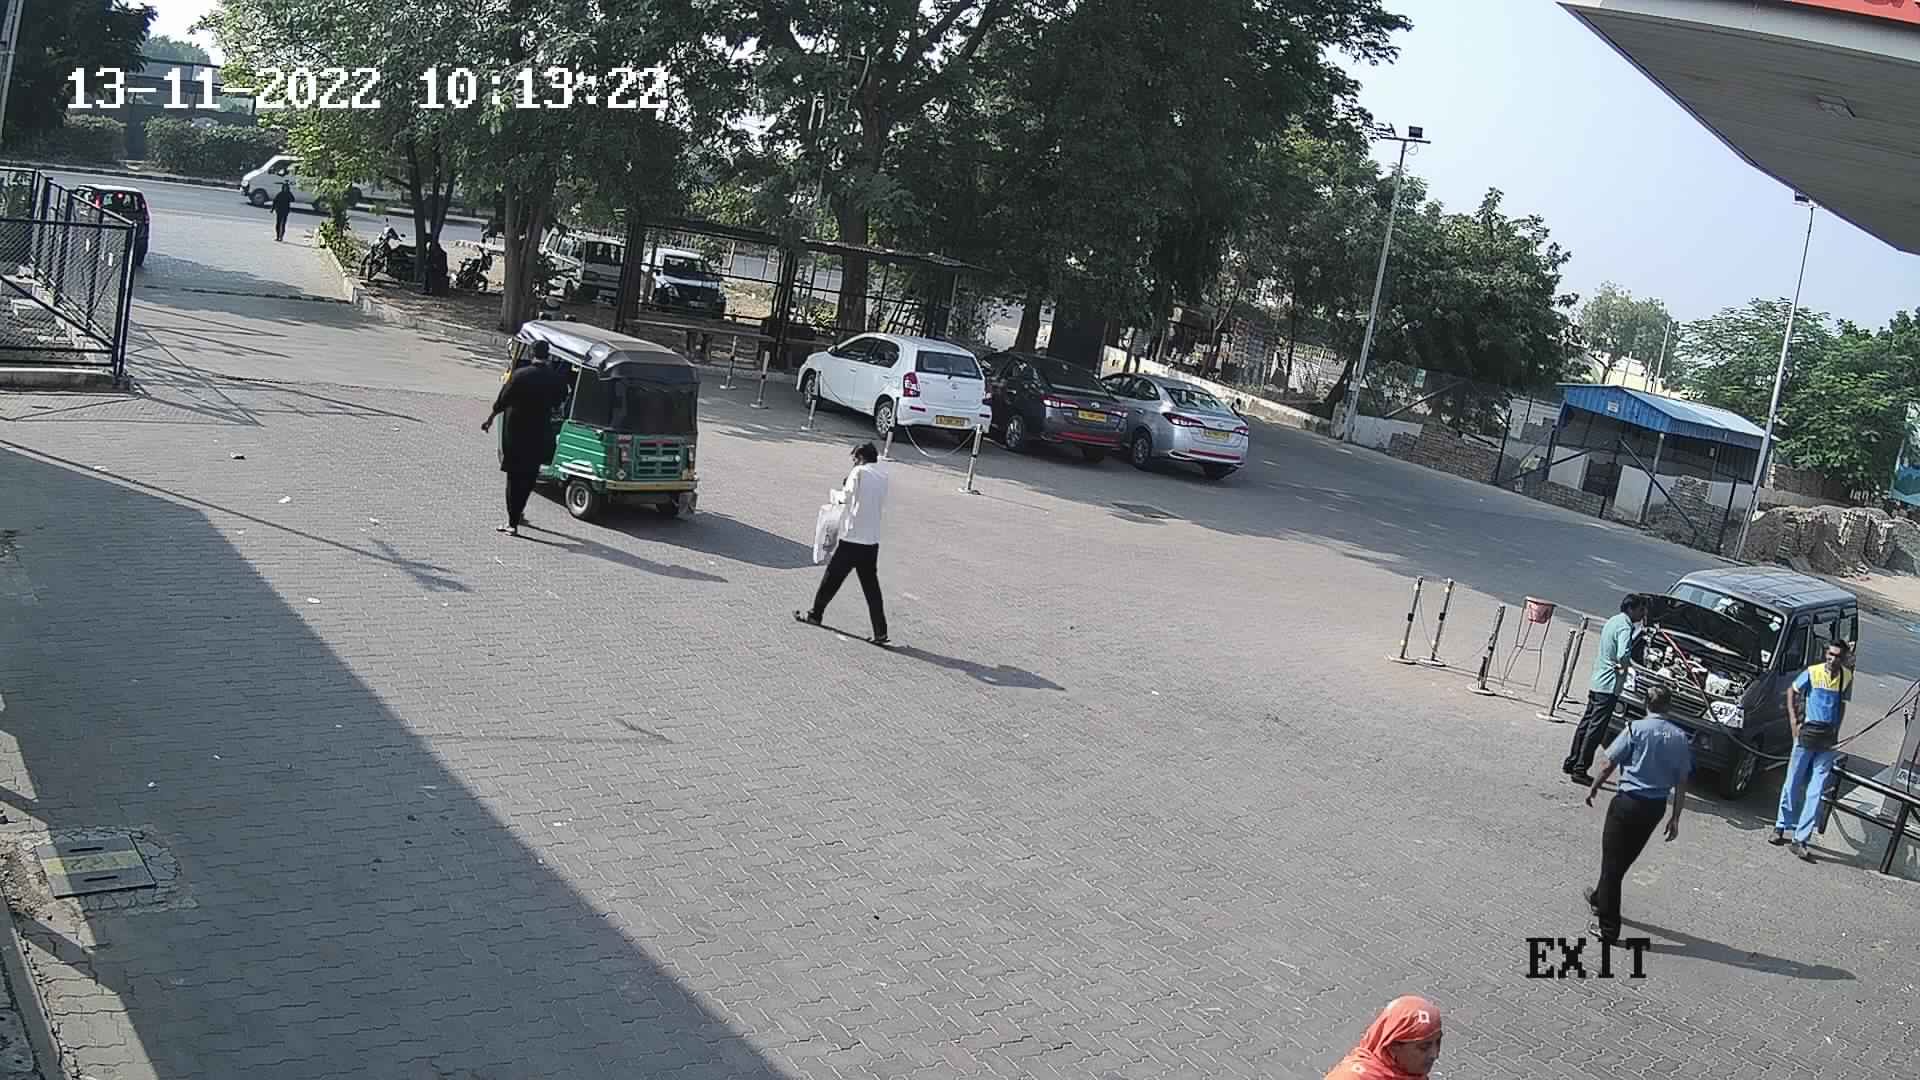Auto: (479, 311, 717, 537)
Bike: (349, 215, 419, 295), (446, 236, 498, 301)
Car: (1582, 553, 1866, 808), (793, 320, 1001, 443), (1079, 355, 1255, 484), (980, 344, 1167, 465), (44, 171, 157, 274), (228, 142, 365, 219), (527, 219, 629, 307), (634, 236, 731, 328)
Others: (1755, 629, 1866, 873)
